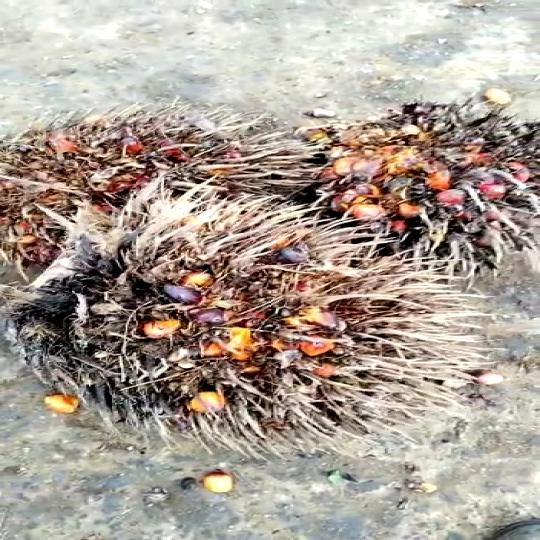terlalu masak: (22, 183, 383, 423), (301, 118, 540, 251)
